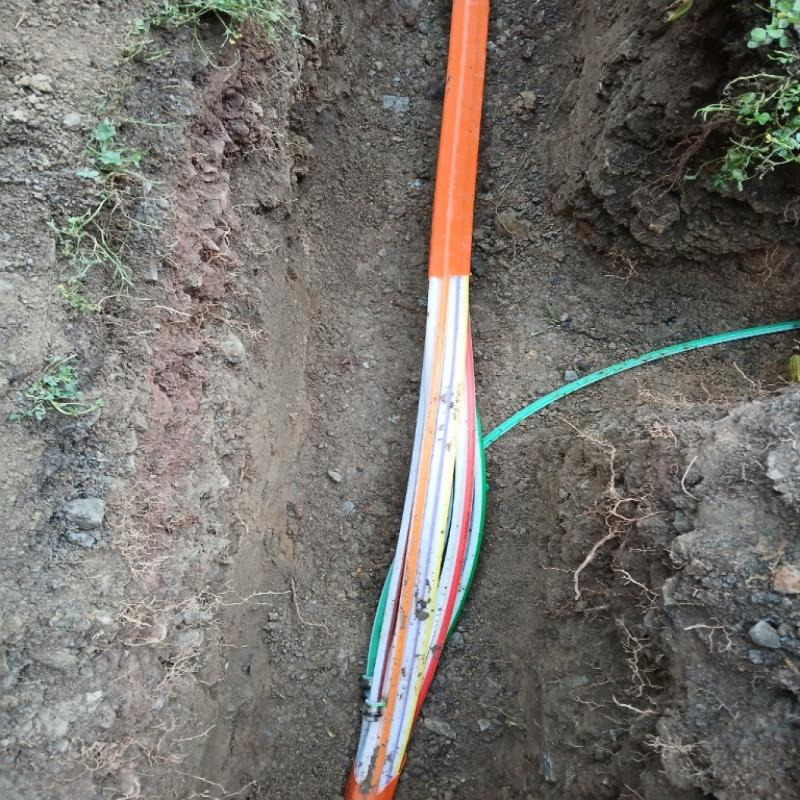Orang-Speednetrohrchen: (401, 1, 490, 543)
